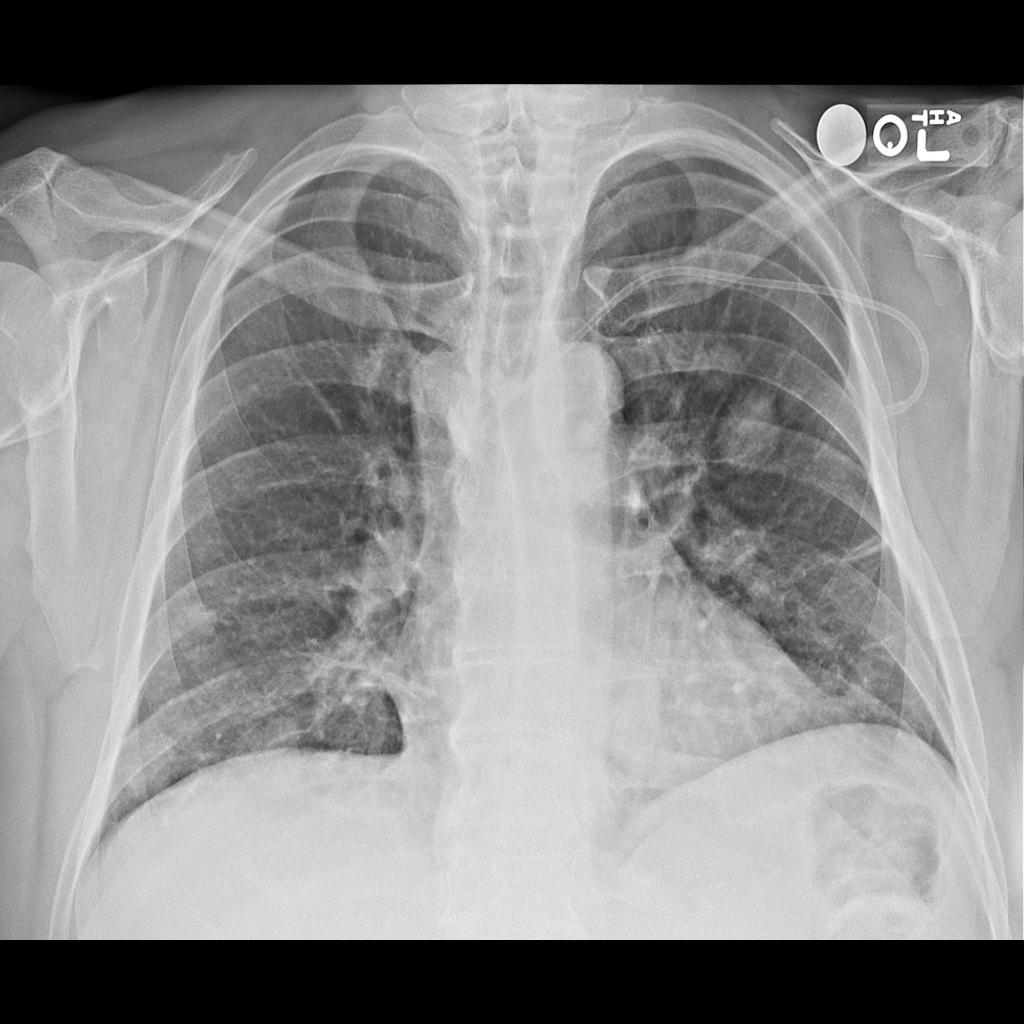Nodule: (717, 382, 796, 481), (127, 735, 189, 799), (172, 595, 232, 639)
